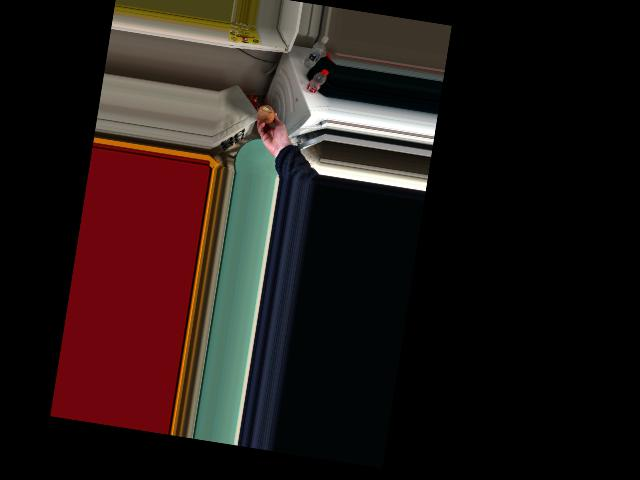sweet_potato: (257, 105, 276, 127)
